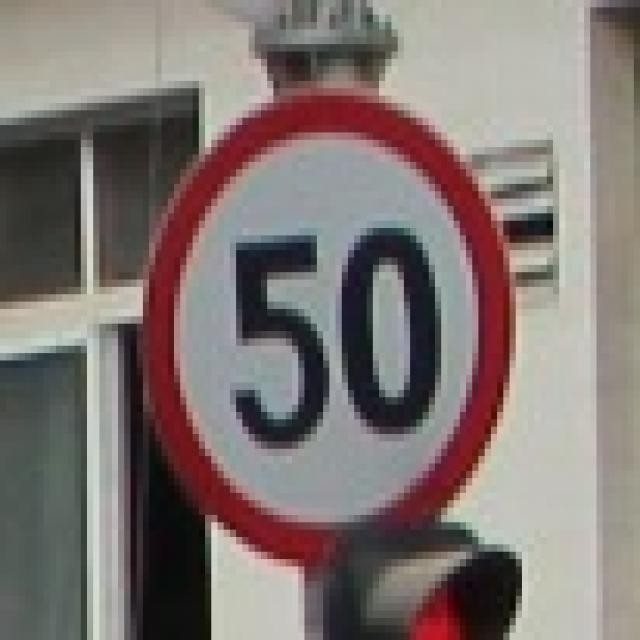Speed Limit -50-: (228, 224, 448, 453)
